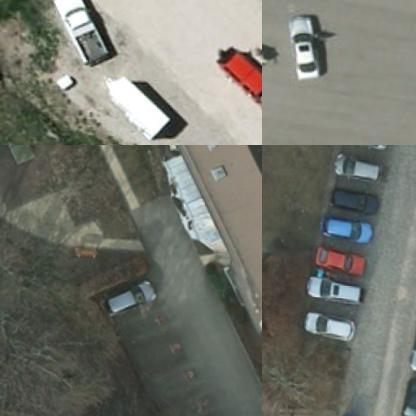camping car: (100, 74, 175, 142)
car: (212, 42, 261, 127), (278, 13, 329, 85), (296, 276, 361, 314), (96, 282, 154, 324), (292, 312, 352, 350), (306, 246, 366, 282), (327, 152, 385, 188), (324, 188, 381, 223), (313, 218, 373, 250), (388, 381, 415, 415), (399, 323, 415, 379), (339, 145, 393, 157)
pickup: (46, 0, 116, 72)
